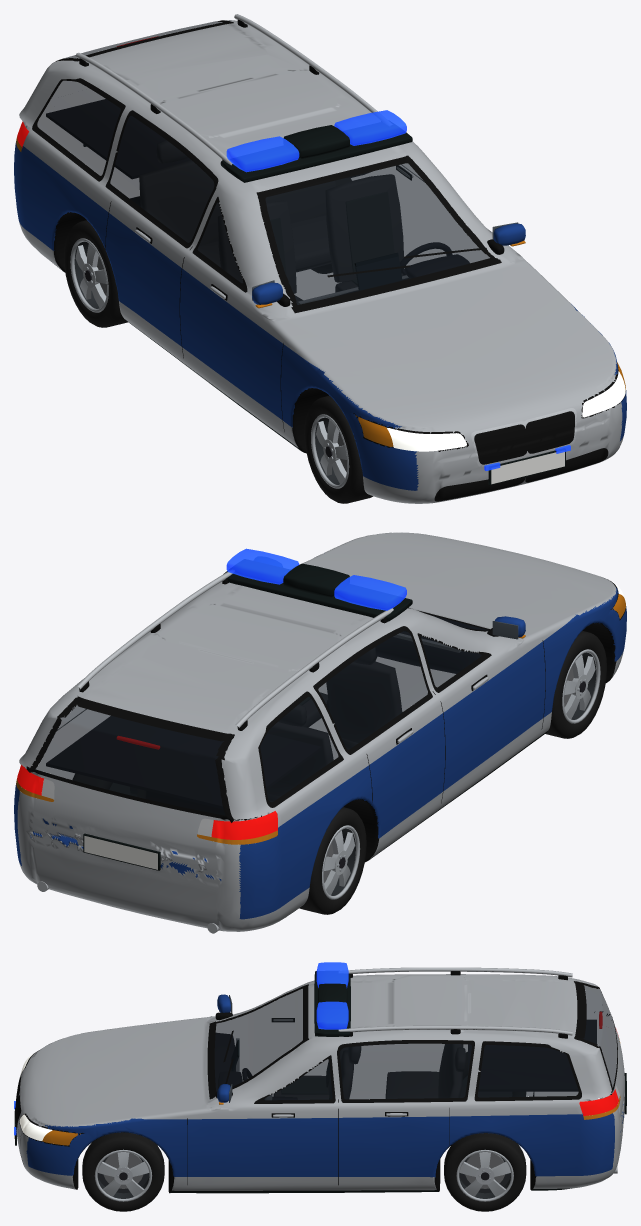
File: car_police.glb
The picture shows the model from 3 angles, top to bottom: view 1: azimuth 30°, elevation 25°; view 2: azimuth 150°, elevation 25°; view 3: azimuth 270°, elevation 25°; orthographic projection. The views are drawn at different scales.
Parts seen in each view (by area): view 1: body, glass, wheel_FR_mesh, wheel_RR_mesh, siren, headlight, plate, indicator_R; view 2: body, glass, wheel_RR_mesh, wheel_FR_mesh, siren, taillight, plate, indicator_R, wheel_RL_mesh; view 3: body, glass, wheel_FL_mesh, wheel_RL_mesh, siren, taillight, indicator_L, headlight, wheel_RR_mesh.
Boxes of the visible parts, x1,y1,x2,y2 form: body: [14, 14, 626, 503]; glass: [37, 21, 489, 304]; wheel_FR_mesh: [304, 395, 372, 503]; wheel_RR_mesh: [64, 220, 127, 327]; siren: [226, 110, 570, 470]; headlight: [387, 371, 625, 451]; plate: [491, 452, 564, 484]; indicator_R: [16, 136, 393, 446]; body: [14, 532, 626, 933]; glass: [36, 615, 488, 815]; wheel_RR_mesh: [299, 807, 366, 914]; wheel_FR_mesh: [545, 631, 606, 738]; siren: [226, 548, 406, 610]; taillight: [17, 736, 277, 839]; plate: [84, 836, 157, 869]; indicator_R: [197, 594, 625, 844]; wheel_RL_mesh: [72, 773, 145, 798]; body: [14, 967, 626, 1193]; glass: [214, 985, 617, 1100]; wheel_FL_mesh: [82, 1132, 164, 1211]; wheel_RL_mesh: [444, 1133, 526, 1211]; siren: [14, 962, 348, 1135]; taillight: [579, 1012, 618, 1115]; indicator_L: [42, 1096, 620, 1145]; headlight: [19, 1053, 52, 1140]; wheel_RR_mesh: [460, 1052, 525, 1097].
Size of the model in its own units: 1.91 by 1.59 by 4.98.
